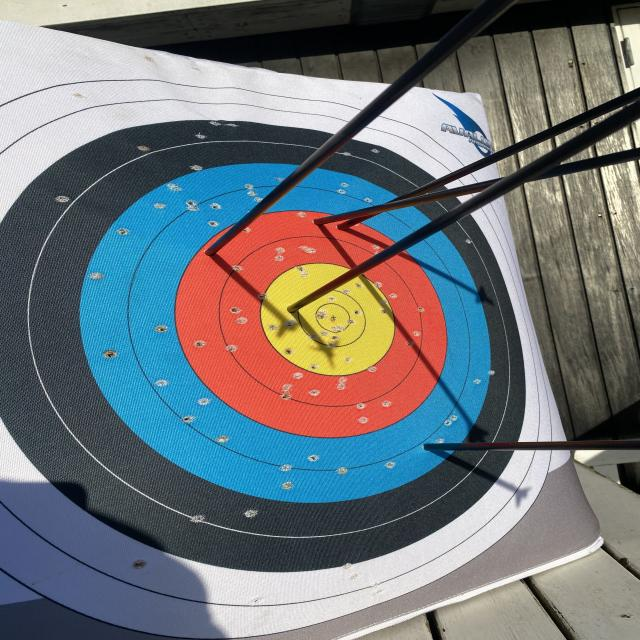Arrow_Blue: (412, 440, 447, 456)
Arrow_Red: (192, 233, 230, 264), (333, 210, 360, 240), (301, 211, 330, 232)
Arrow_Yellow: (275, 294, 309, 316)
